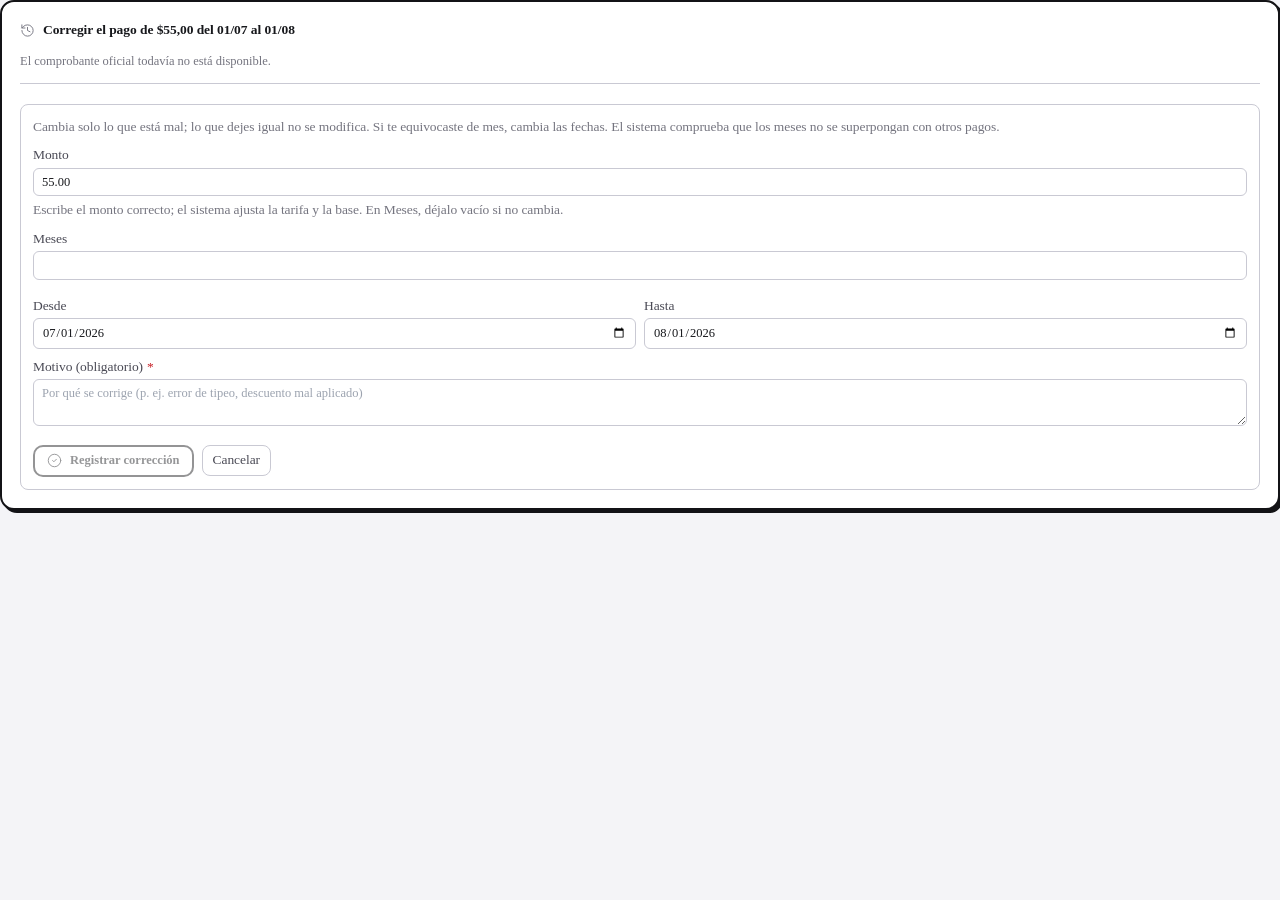
Test: PagoCorreccionSection — extended (amount, months, dates) › months change — the recalculated amount is shown before saving (#1762) › subtracts the frozen discount, like the server does
expect the button "Registrar corrección" is shown: met, box 33,444 -> 194,476
Type "1" into the number field labelled "Meses".
click(640, 265); type("1")  # box 33,251 -> 1247,280
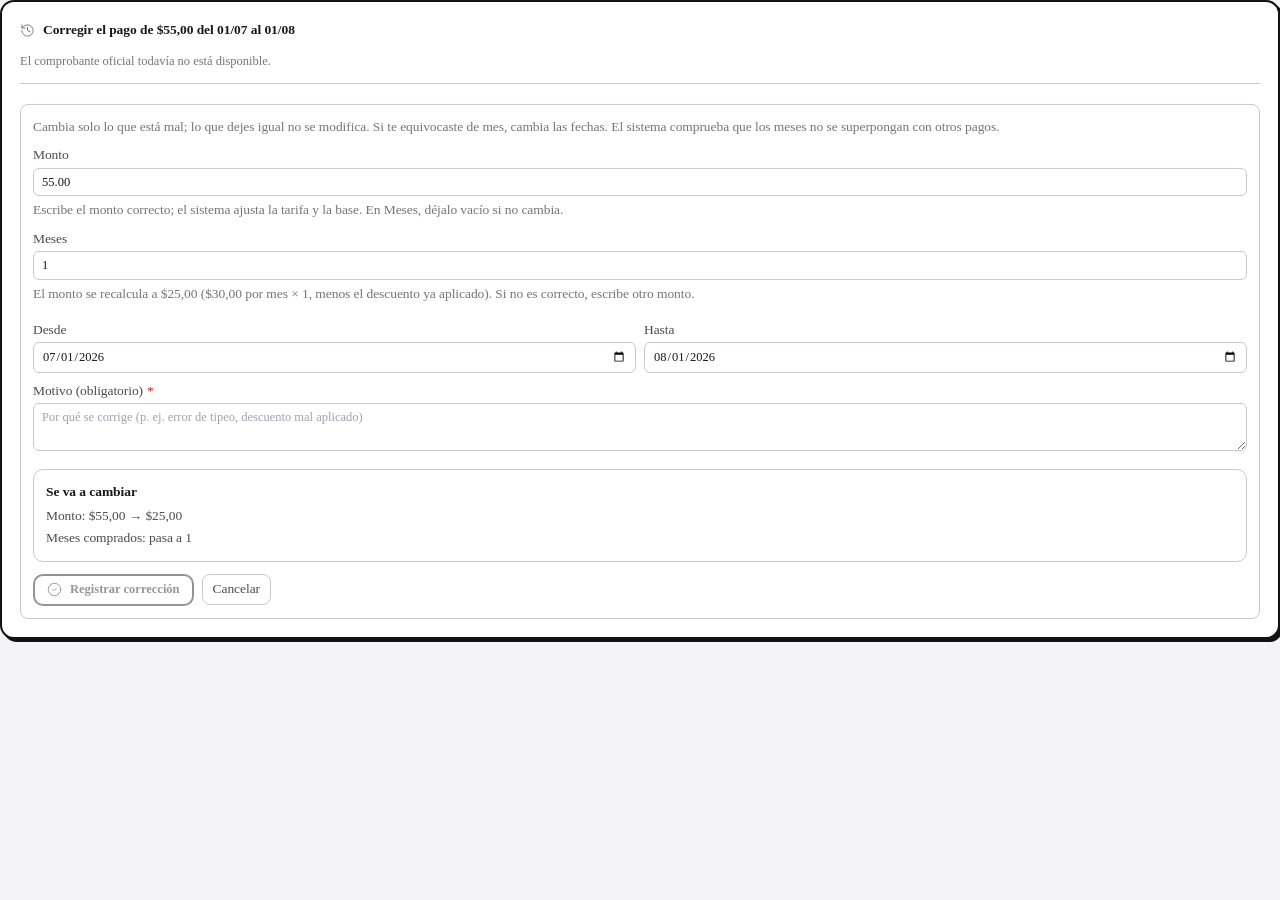
expect the list item "Monto: $55,00 → $25,00" is shown: met, box 46,508 -> 182,523
